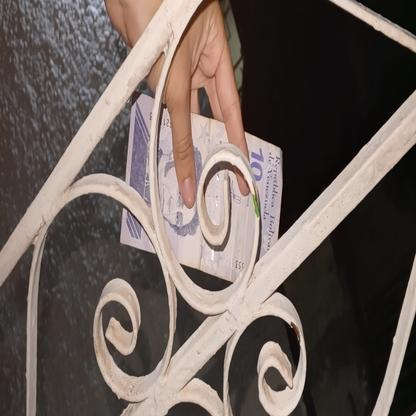ten-front-vef: (118, 89, 283, 293)
